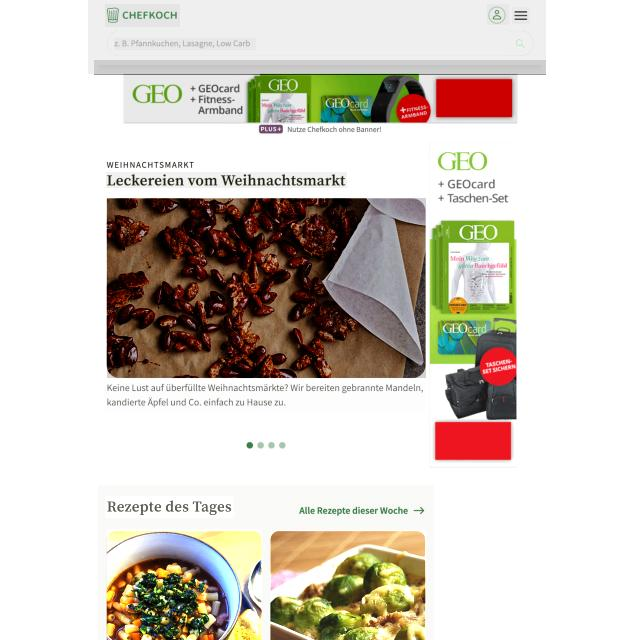CheckBox: (296, 502, 426, 518)
CheckedTextView: (106, 30, 534, 58)
ImageView: (430, 141, 519, 466), (124, 74, 517, 124)
Input field: (104, 384, 425, 414)
accordion: (94, 60, 546, 75)
bag: (88, 0, 546, 74)
breadcrumbs: (106, 172, 347, 188), (105, 496, 234, 518)
carousel: (487, 4, 509, 25), (512, 7, 530, 24), (514, 36, 526, 51)
copy: (107, 198, 426, 378), (107, 529, 262, 640), (270, 530, 426, 640)
date picker: (105, 4, 180, 27)
decoration: (510, 4, 532, 27)
footer: (114, 38, 256, 50)
